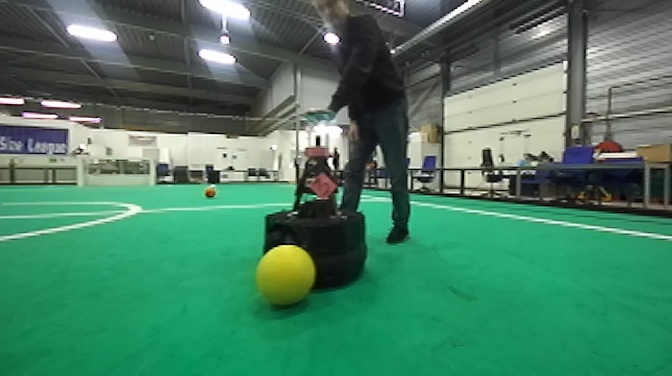ball: (252, 239, 319, 315), (203, 185, 219, 200)
goal: (76, 158, 158, 189)
goalpost: (148, 158, 157, 190), (78, 158, 83, 188)
human: (292, 1, 415, 248)
robot: (257, 105, 371, 297)
